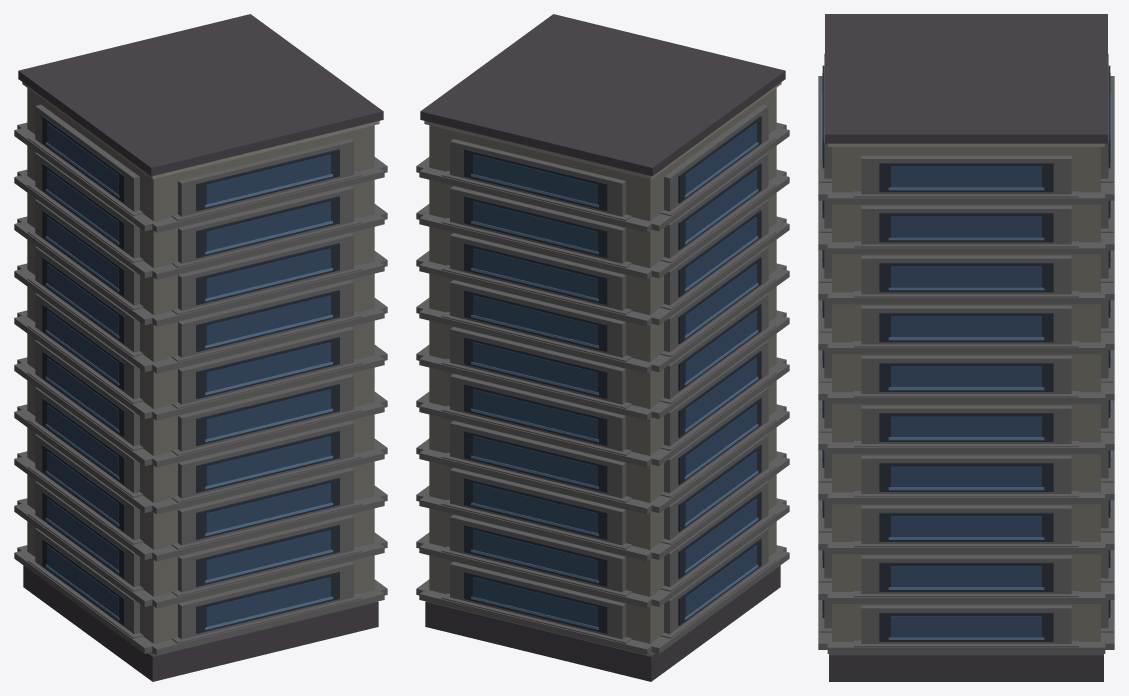
Rendered from TowerShort.obj.
3 views of the same model, side by side, from view 1: azimuth 30°, elevation 25°; view 2: azimuth 150°, elevation 25°; view 3: azimuth 270°, elevation 25° (orthographic). The views are drawn at different scales.
Visible parts, largest first — view 1: TowerShort; view 2: TowerShort; view 3: TowerShort.
Part boxes in pixels (x1=…): TowerShort: x1=14, y1=14, x2=387, y2=681; TowerShort: x1=416, y1=14, x2=789, y2=681; TowerShort: x1=818, y1=14, x2=1114, y2=681.
Size of the model in its own units: 1.42 by 2.88 by 1.41.
